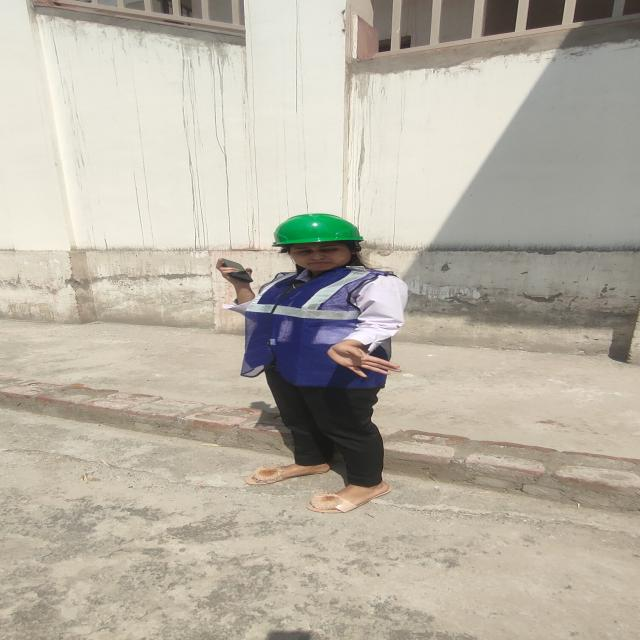safe: (241, 213, 411, 514)
